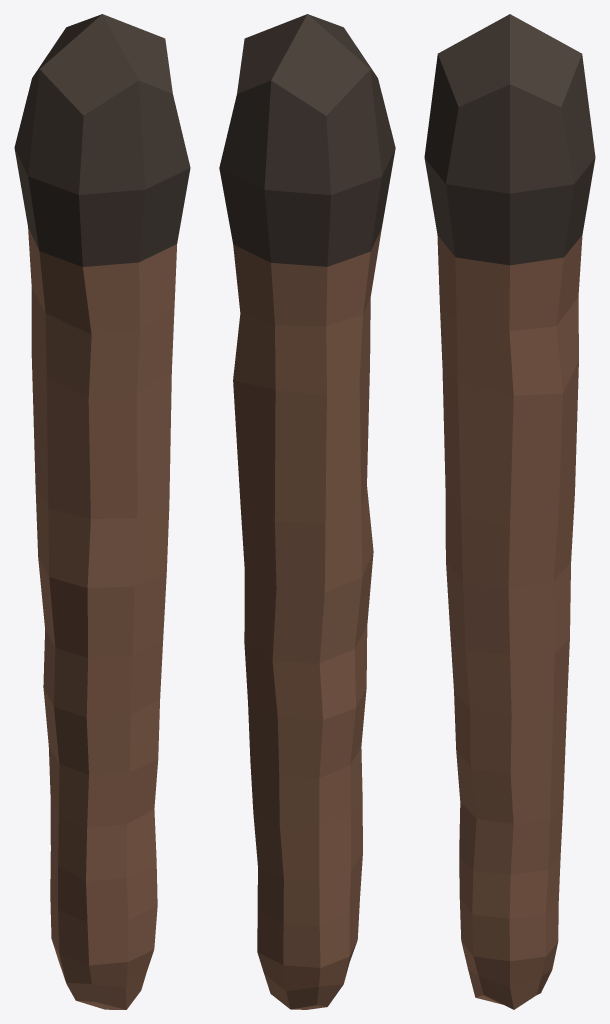
The model's file is Torch.fbx.
3 views of the same model, side by side, from view 1: azimuth 30°, elevation 25°; view 2: azimuth 150°, elevation 25°; view 3: azimuth 270°, elevation 25° (orthographic).
Visible parts, largest first — view 1: Cube; view 2: Cube; view 3: Cube.
Part boxes in pixels (x1,y1,x2,y2): Cube: (14, 14, 190, 1009); Cube: (219, 14, 395, 1009); Cube: (424, 14, 595, 1009).
Size of the model in its own units: 14.91 by 95.33 by 14.91.
